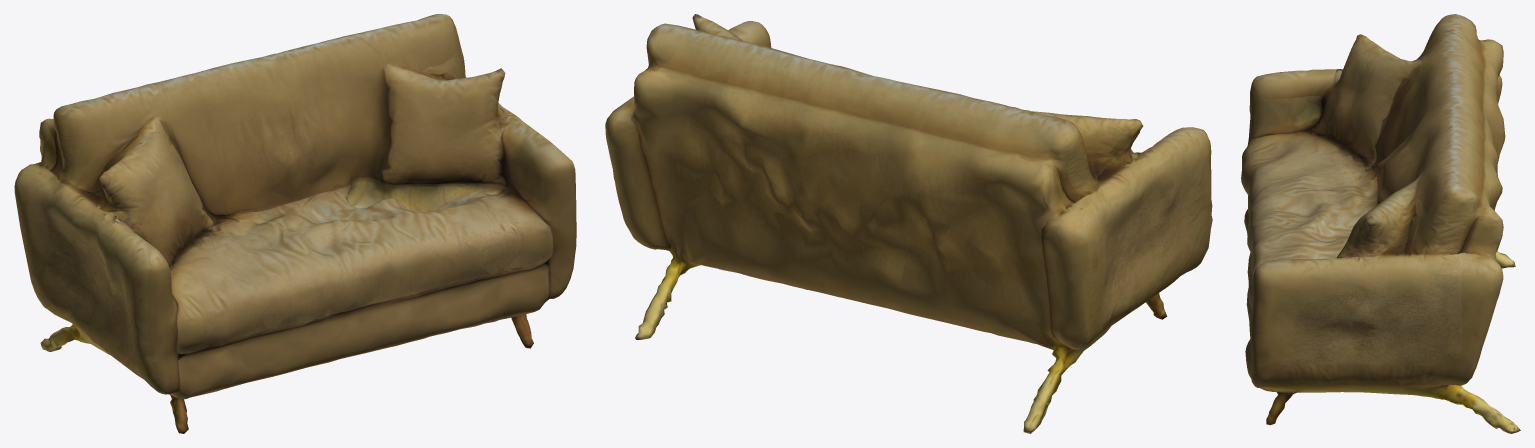
The model's file is sofa-sample.glb.
The picture shows the model from 3 angles, left to right: view 1: azimuth 30°, elevation 25°; view 2: azimuth 150°, elevation 25°; view 3: azimuth 270°, elevation 25°; orthographic projection. The views are drawn at different scales.
Size of the model in its own units: 1.2 by 0.6801 by 0.684.
Materials: 1 (1 with a texture image).
